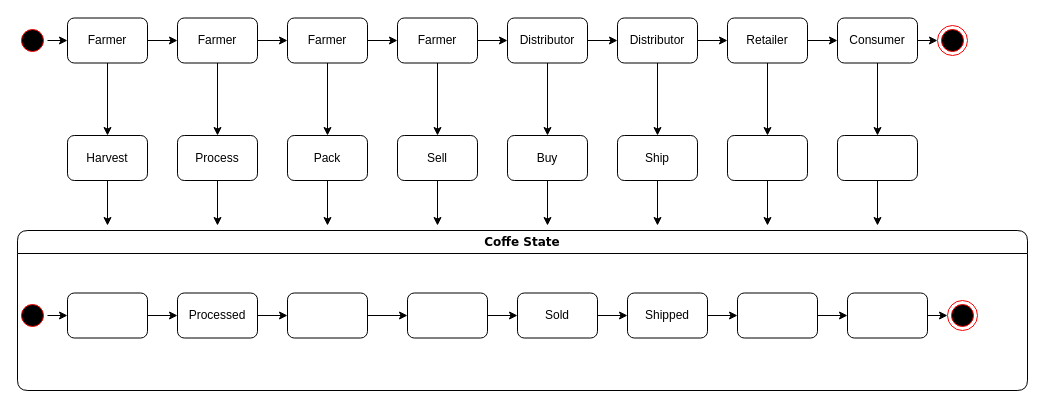
This 1045x408 diagram has some shape labels left out. Here are the shapes that lost their labels. From the top down, the centre of each, then its label:
the point at 767,157: Receive
the point at 877,157: Purchase
the point at 107,315: Harvested
the point at 327,315: Packed
the point at 447,315: For Sale
the point at 777,315: Received
the point at 887,315: Purchased
